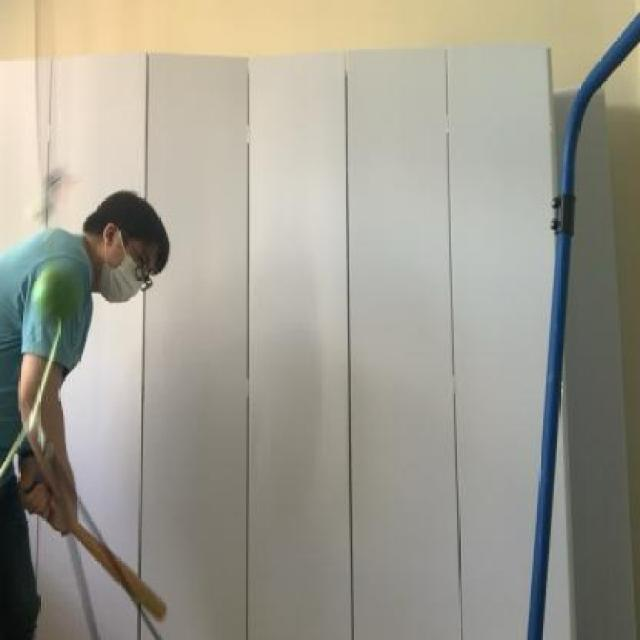baseball: (31, 258, 84, 331)
